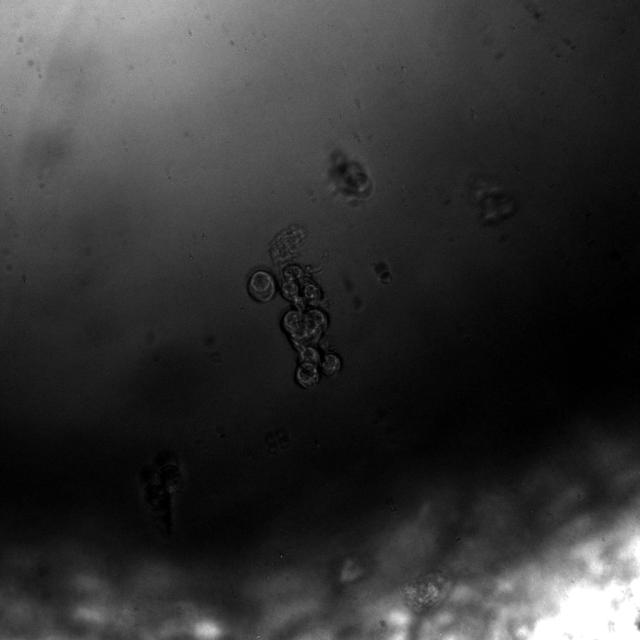organoid: (248, 225, 342, 388), (328, 149, 373, 204), (468, 174, 516, 225), (402, 571, 451, 612)
